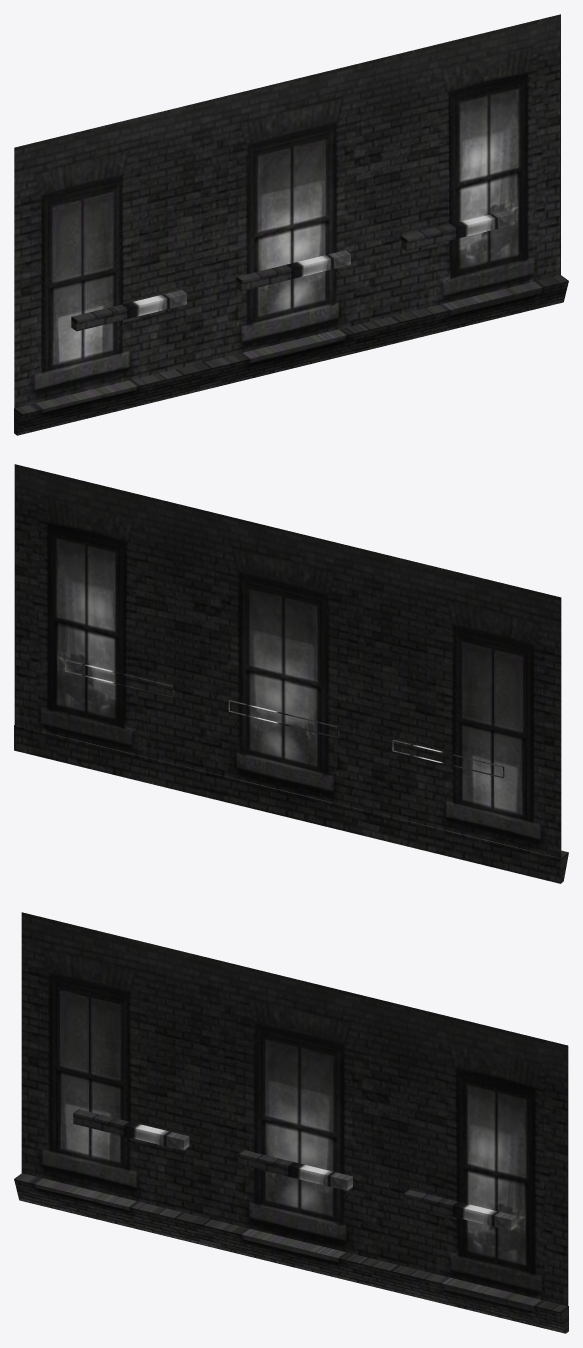
File: floor.obj
3 renders of one model, top to bottom at view 1: azimuth 30°, elevation 25°; view 2: azimuth 150°, elevation 25°; view 3: azimuth 330°, elevation 25°, orthographic.
Visible parts, largest first — view 1: group; view 2: group; view 3: group.
Part boxes in pixels (x1,y1,x2,y2): group: [14, 14, 568, 435]; group: [14, 464, 568, 883]; group: [14, 912, 568, 1333].
Bounding box in the file's own units: 10 × 5 × 0.295.
